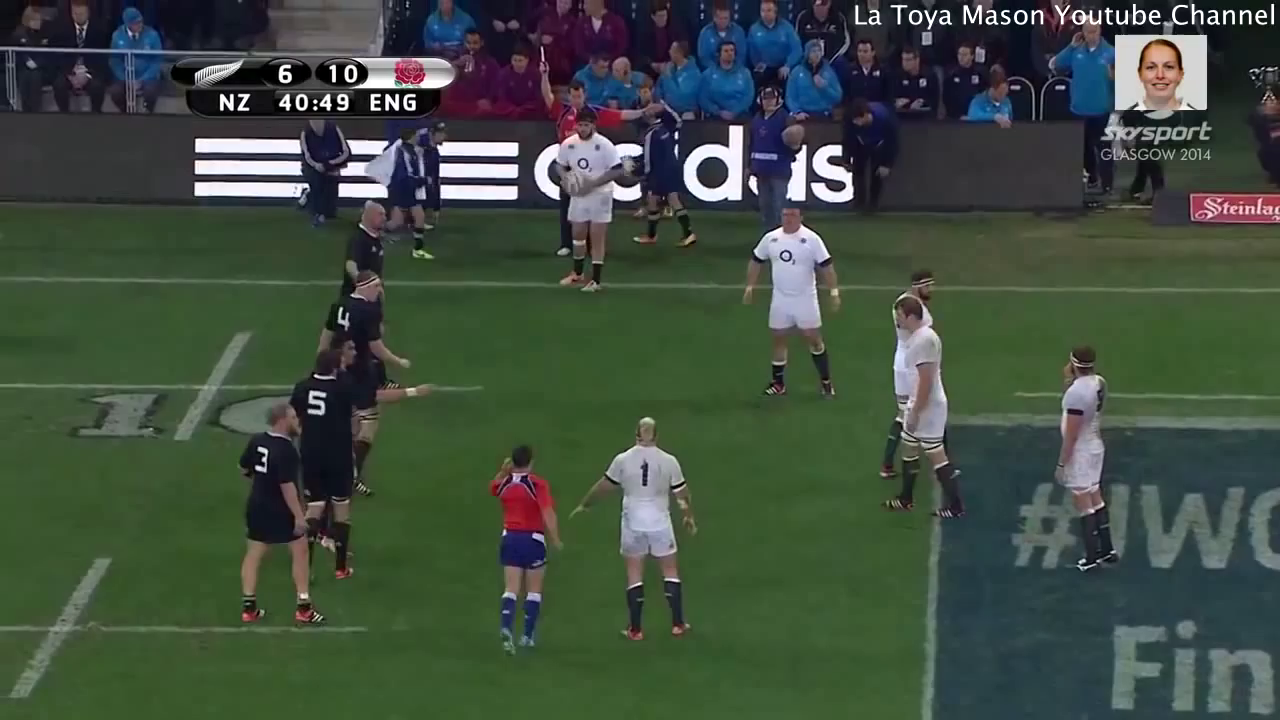ball: (561, 161, 590, 200)
player: (570, 409, 709, 646), (737, 192, 853, 411), (876, 293, 969, 525), (236, 403, 332, 624), (1047, 333, 1129, 574), (286, 351, 371, 571), (486, 447, 566, 659), (551, 108, 631, 306), (311, 272, 417, 372), (346, 195, 397, 281), (337, 336, 360, 392)
